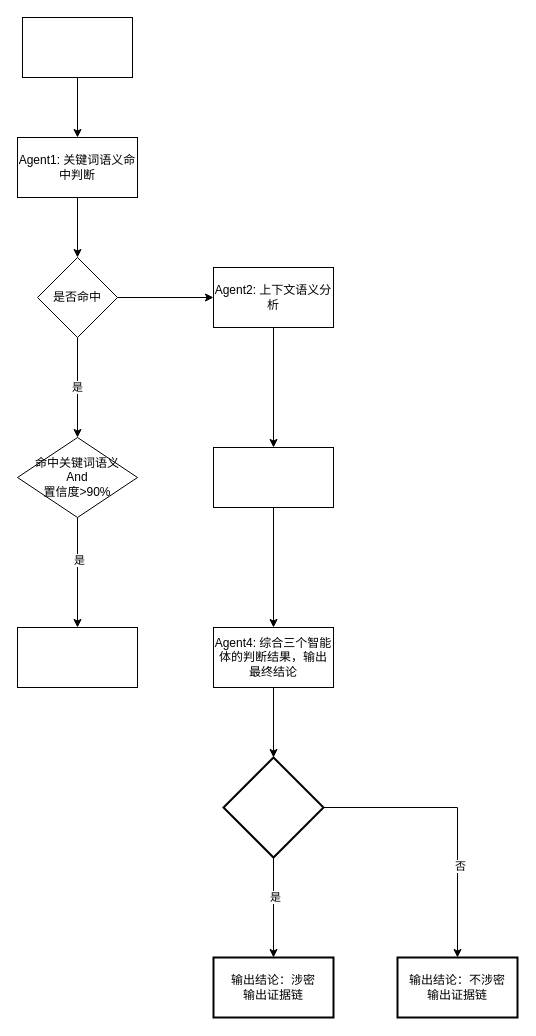
Image size: 536x1036. Some labels were removed from this diagram. The shapes that lost their labels are listed below. From the top down, each one's centre as x and y in pixels, then its label:
At (x=77, y=47): "输入文件".
At (x=273, y=477): "Agent3: 验证是否为非涉密文件".
At (x=77, y=657): "输出结论：涉密".
At (x=273, y=807): "是否涉密".
